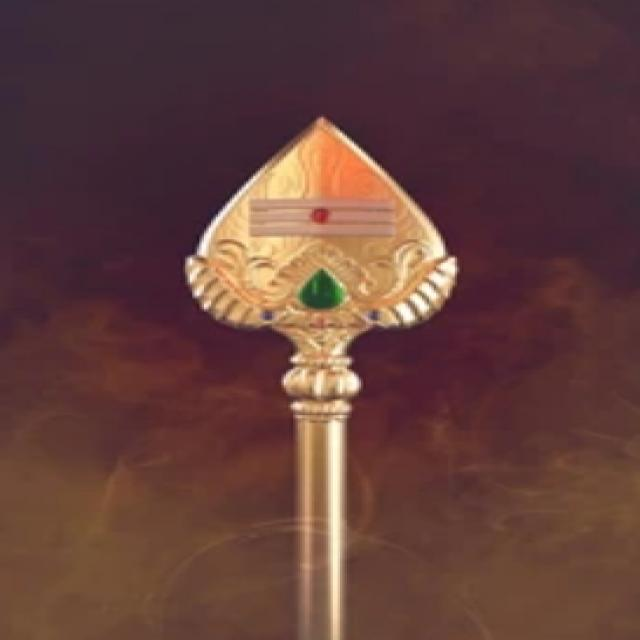spear: (160, 85, 500, 635)
